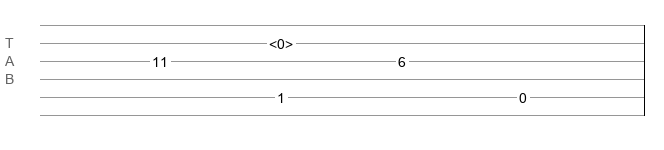0: (519, 90, 527, 100)
1: (277, 90, 285, 100)
11: (152, 54, 168, 64)
6: (398, 54, 406, 64)
harmonic: (269, 36, 293, 46)
